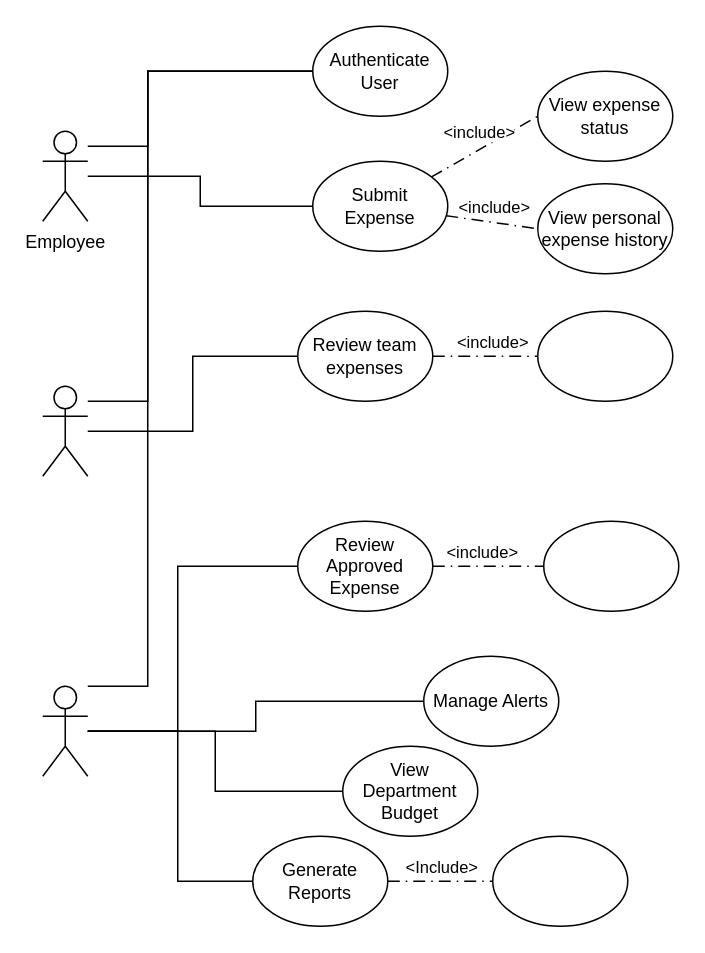
This 705x953 diagram has some shape labels left out. The shapes that lost their labels are listed below. From the top down, each one's box as (x1, y1, x2, y2) in pixels, then its label:
(536, 310, 673, 401): Validate Expense
(41, 385, 88, 476): Manager
(542, 520, 679, 611): Validate Expense (Final)
(41, 685, 88, 776): Finance
(491, 835, 628, 926): Export Reports
